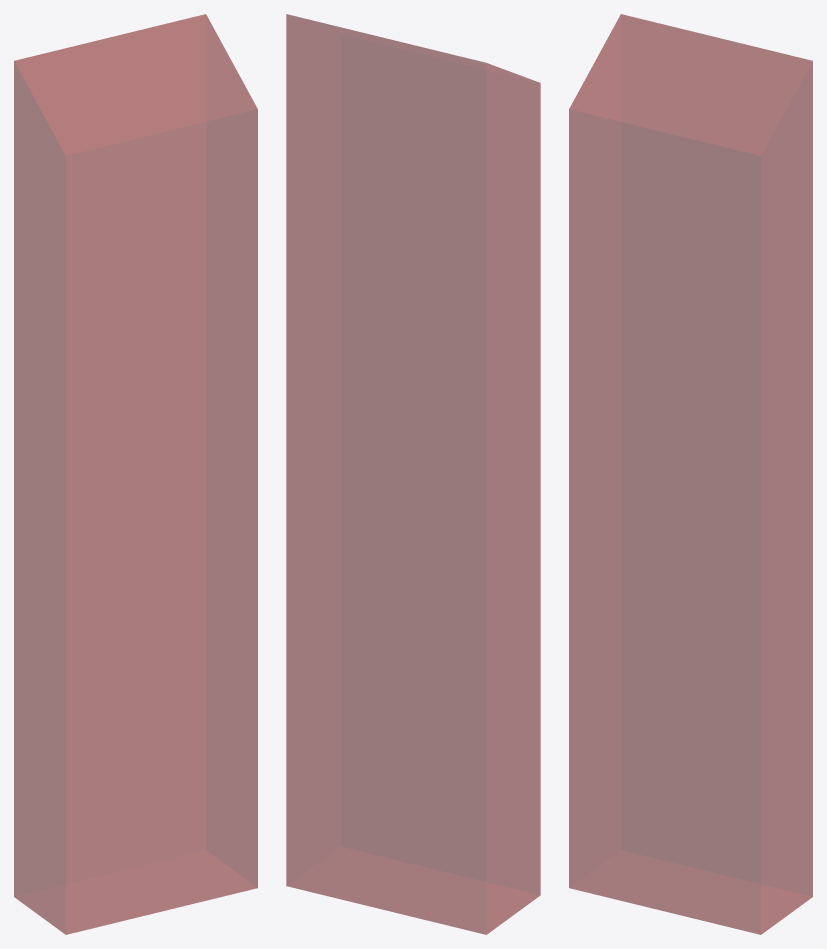
Rendered from SM_Bld_Background_Wall_Arch_01_Collision.fbx.
3 renders of one model, left to right at view 1: azimuth 30°, elevation 25°; view 2: azimuth 150°, elevation 25°; view 3: azimuth 330°, elevation 25°, orthographic. The views are drawn at different scales.
Parts seen in each view (by area): view 1: SM_Bld_Background_Wall_Arch_01_Collision; view 2: SM_Bld_Background_Wall_Arch_01_Collision; view 3: SM_Bld_Background_Wall_Arch_01_Collision.
Boxes of the visible parts, x1,y1,x2,y2 form: SM_Bld_Background_Wall_Arch_01_Collision: (14,14,257,934); SM_Bld_Background_Wall_Arch_01_Collision: (286,14,540,934); SM_Bld_Background_Wall_Arch_01_Collision: (569,14,812,934).
Size of the model in its own units: 539 by 2244 by 252.
